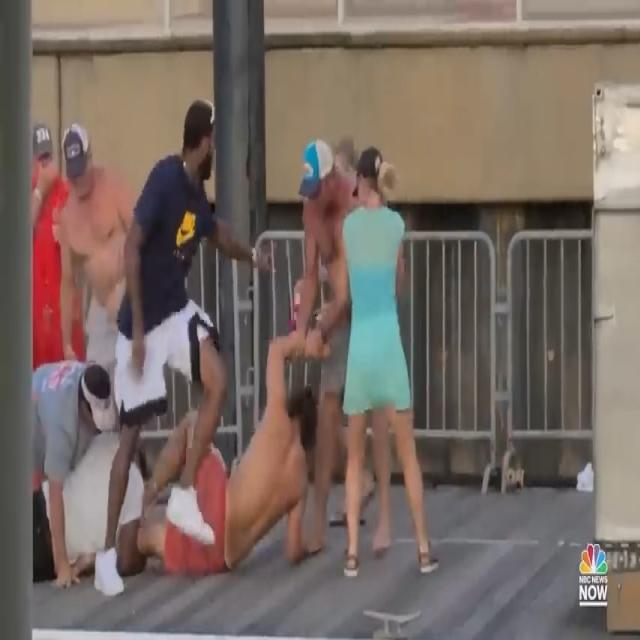fight: (34, 95, 440, 601)
